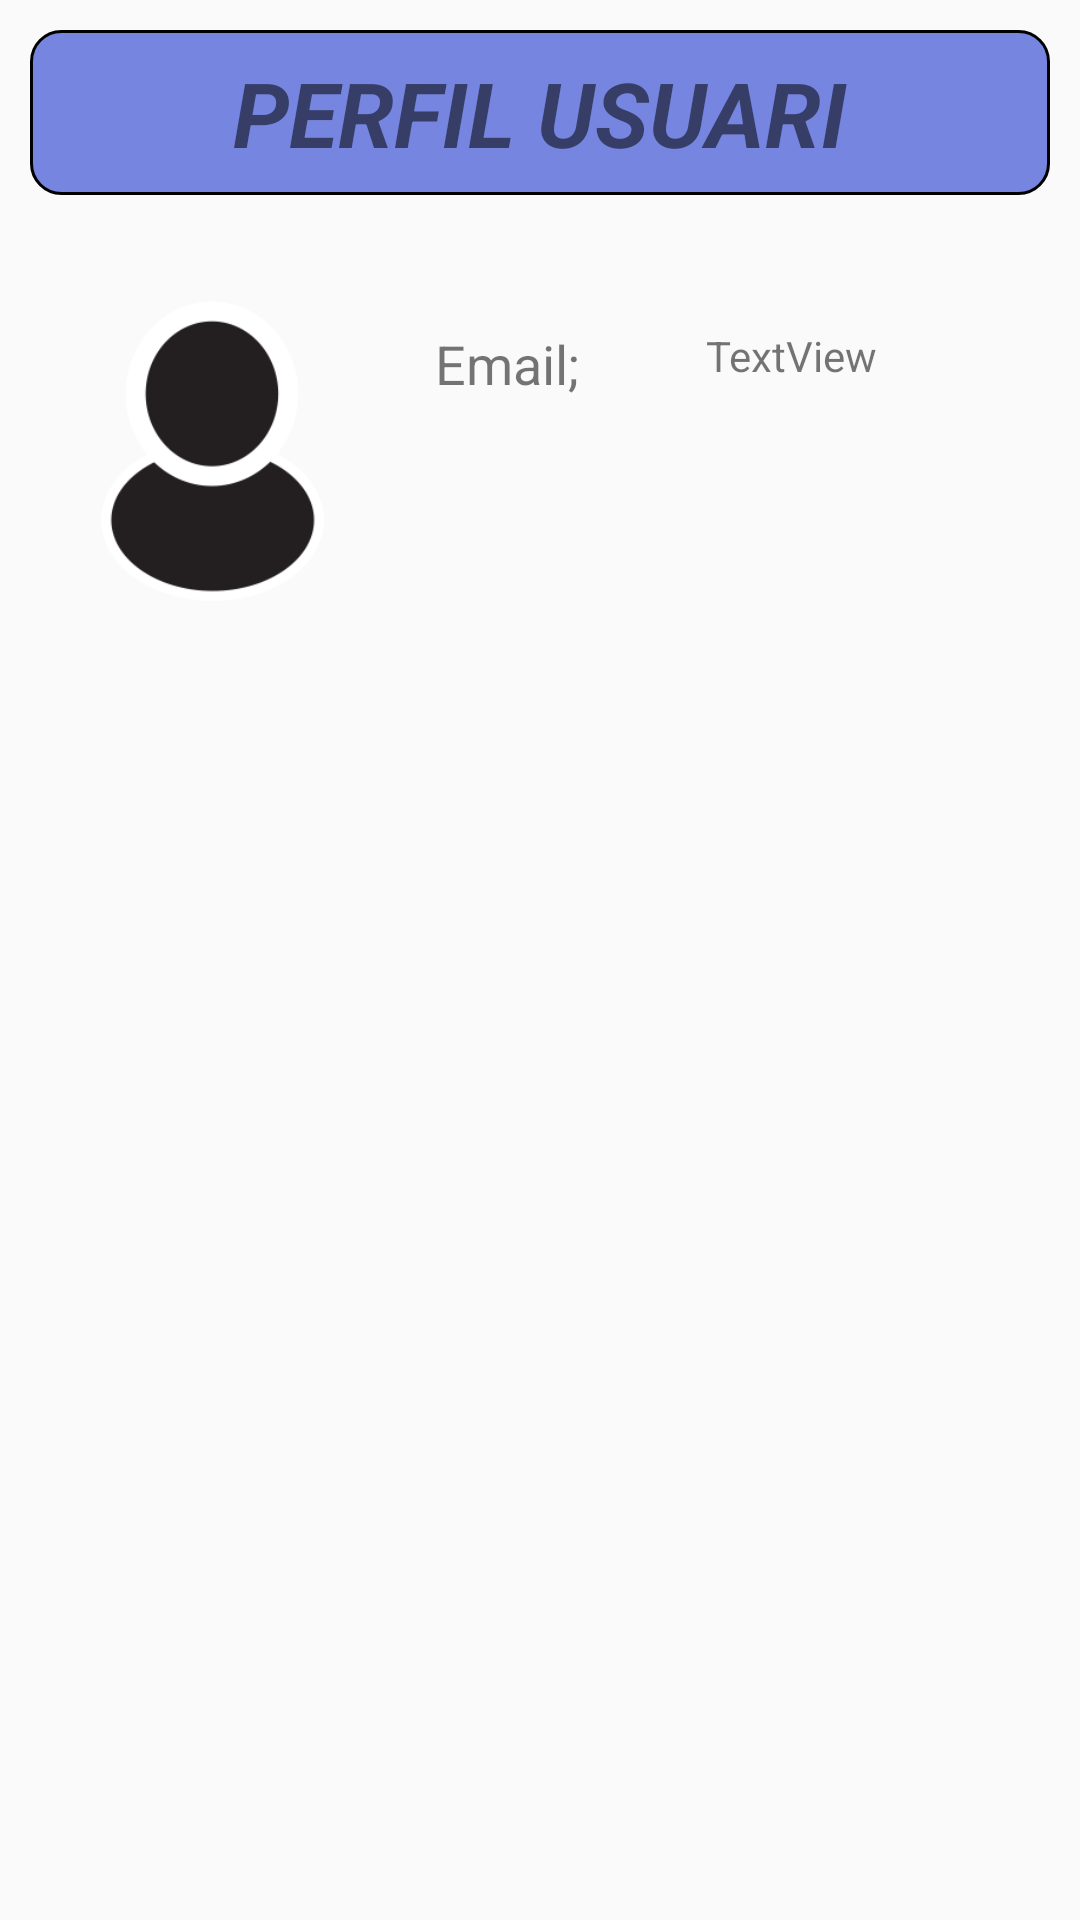

Named icons in this screenshot (1080*1920) and their centers, (x=x, y=y):
persona: (x=212, y=456)
